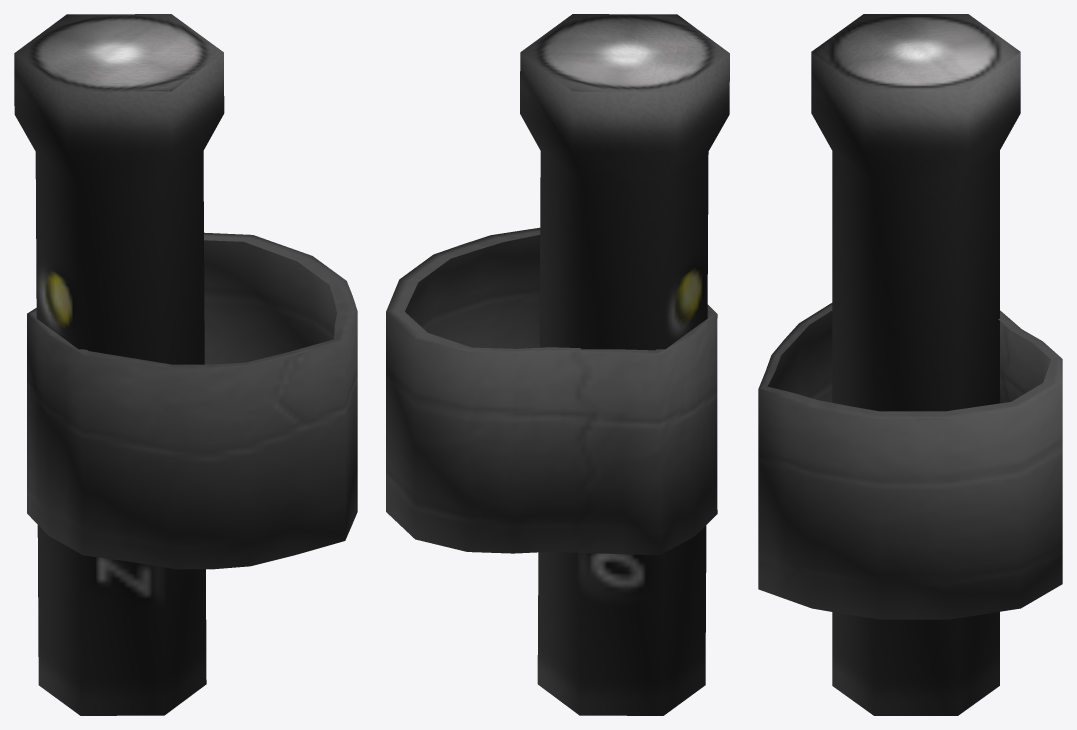
Rendered from TLOG_WeaponFlashlightFullAutoRifle.fbx.
The picture shows the model from 3 angles, left to right: view 1: azimuth 30°, elevation 25°; view 2: azimuth 150°, elevation 25°; view 3: azimuth 270°, elevation 25°; orthographic projection.
Parts seen in each view (by area): view 1: FlashlightFullAutoRifle; view 2: FlashlightFullAutoRifle; view 3: FlashlightFullAutoRifle.
Part boxes in pixels (x1,y1,x2,y2): FlashlightFullAutoRifle: (14,14,357,715); FlashlightFullAutoRifle: (386,14,729,715); FlashlightFullAutoRifle: (758,14,1062,715).
Bounding box in the file's own units: 0.0641 × 0.1384 × 0.0587.
